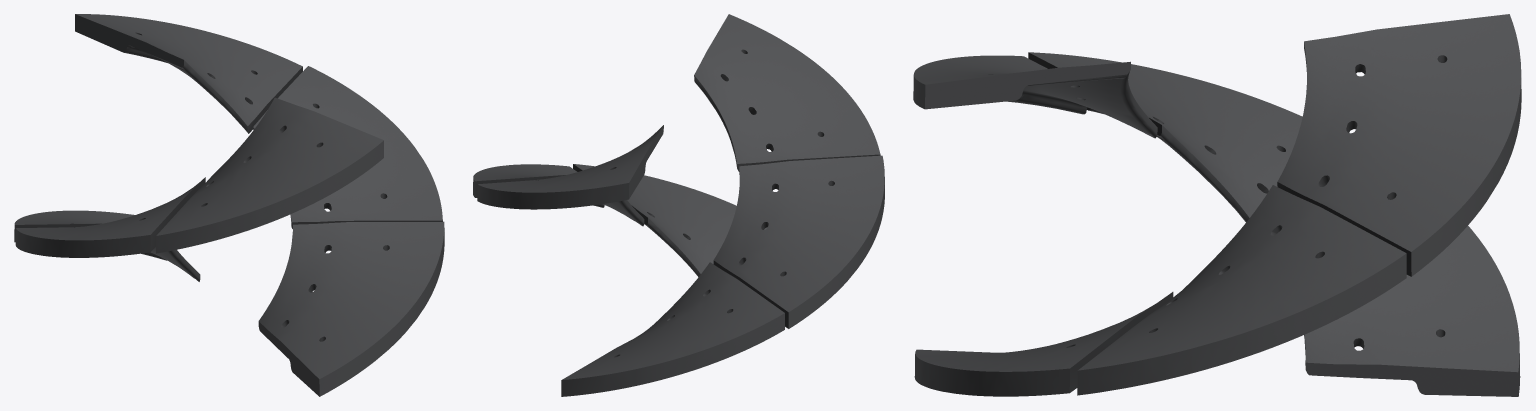
The model's file is verti-flight-liners.glb.
3 renders of one model, left to right at view 1: azimuth 30°, elevation 25°; view 2: azimuth 150°, elevation 25°; view 3: azimuth 270°, elevation 25°, orthographic. The views are drawn at different scales.
Visible parts, largest first — view 1: sinterHicr; view 2: sinterHicr; view 3: sinterHicr.
Boxes of the visible parts, <box> form: sinterHicr: <box>14,14,444,396</box>; sinterHicr: <box>473,14,884,396</box>; sinterHicr: <box>913,14,1521,396</box>.
Bounding box in the file's own units: 4.89 × 3.02 × 4.9.
Materials: 1 (1 with a texture image).
